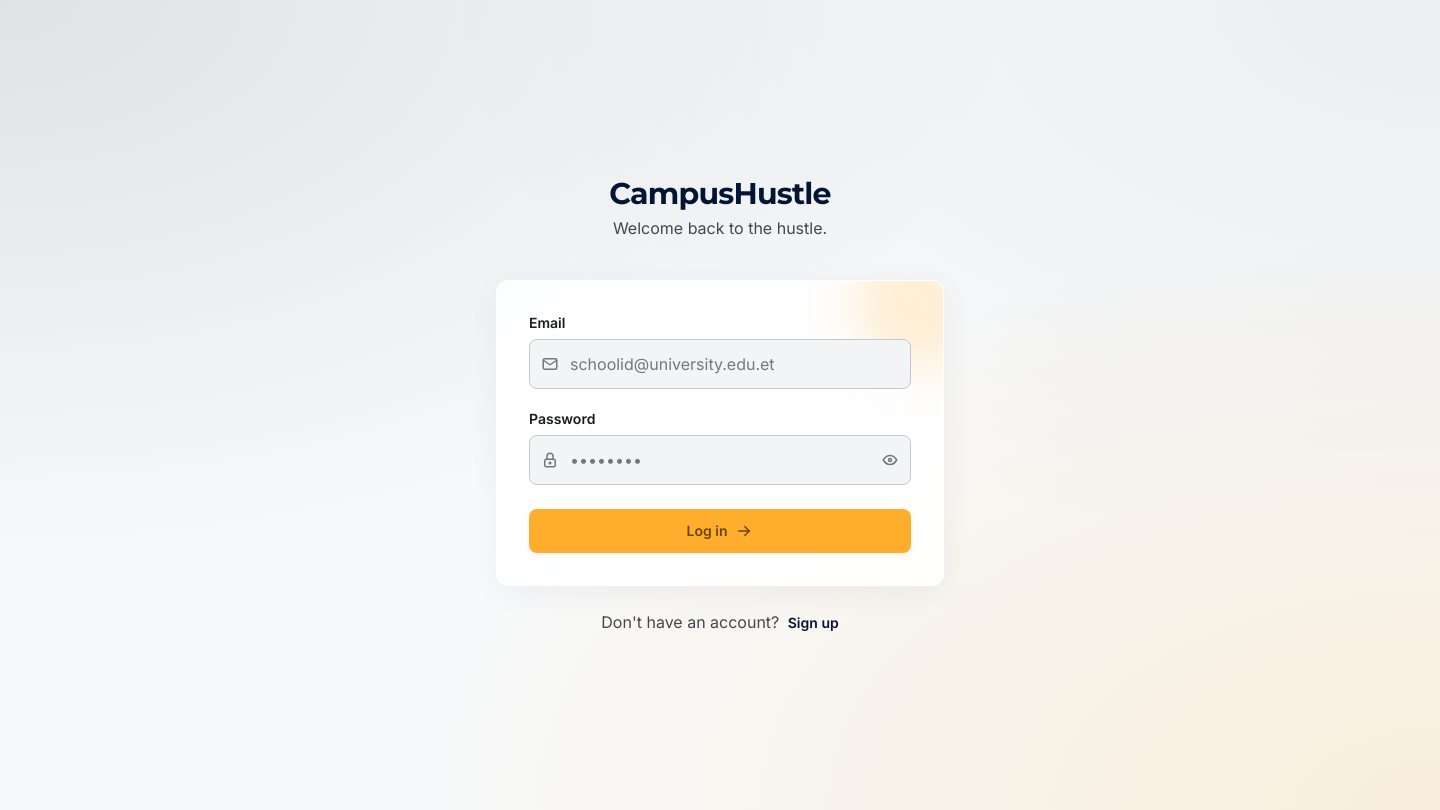
Scenario: LoginForm › shows an error toast when login fails
The image size is (1440, 810).
Type "fail@campus.edu.et" into the field labelled "Email" at coordinates (720, 364), box [529,339,911,389]
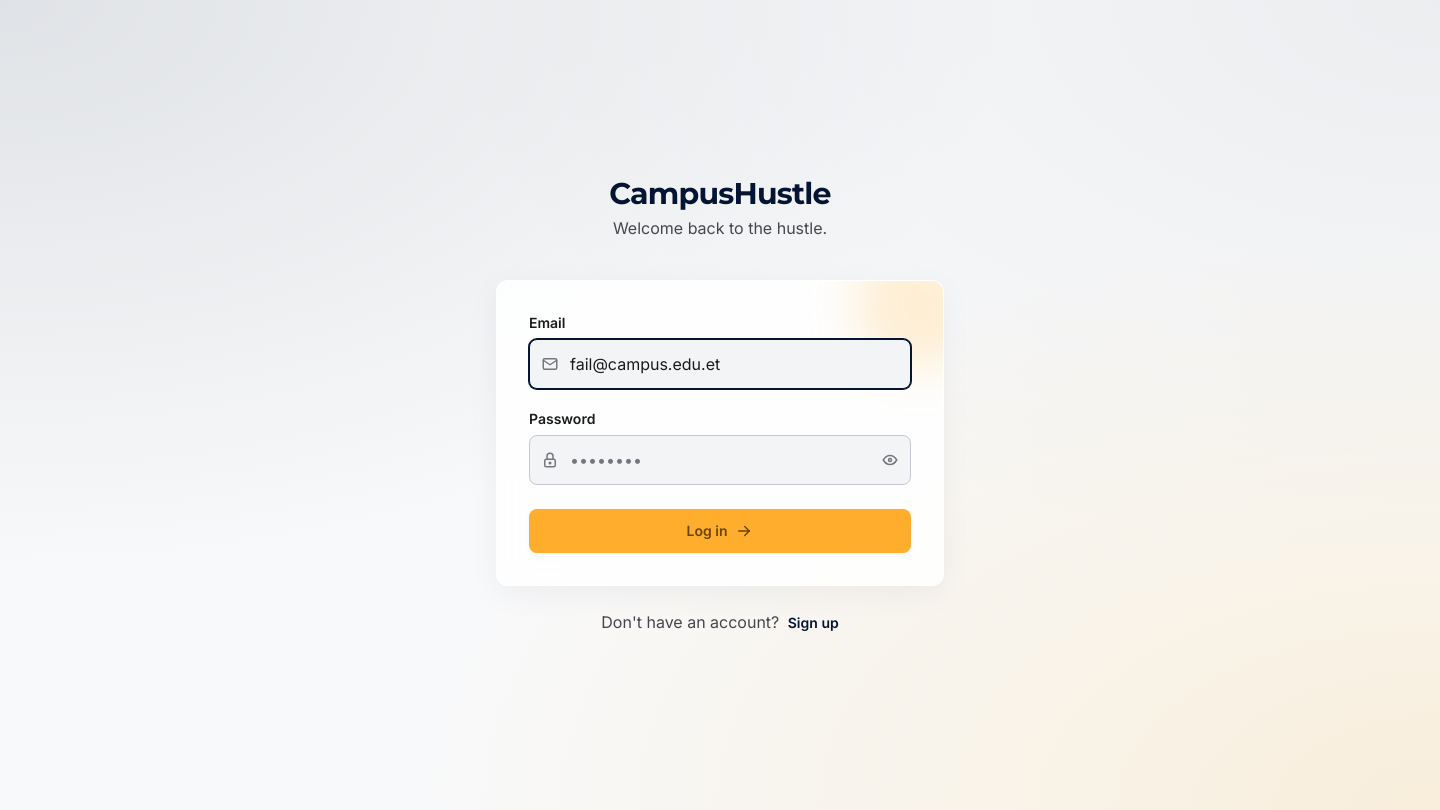
Type "password123" into the password field labelled "Password" at coordinates (720, 460), box [529,435,911,485]
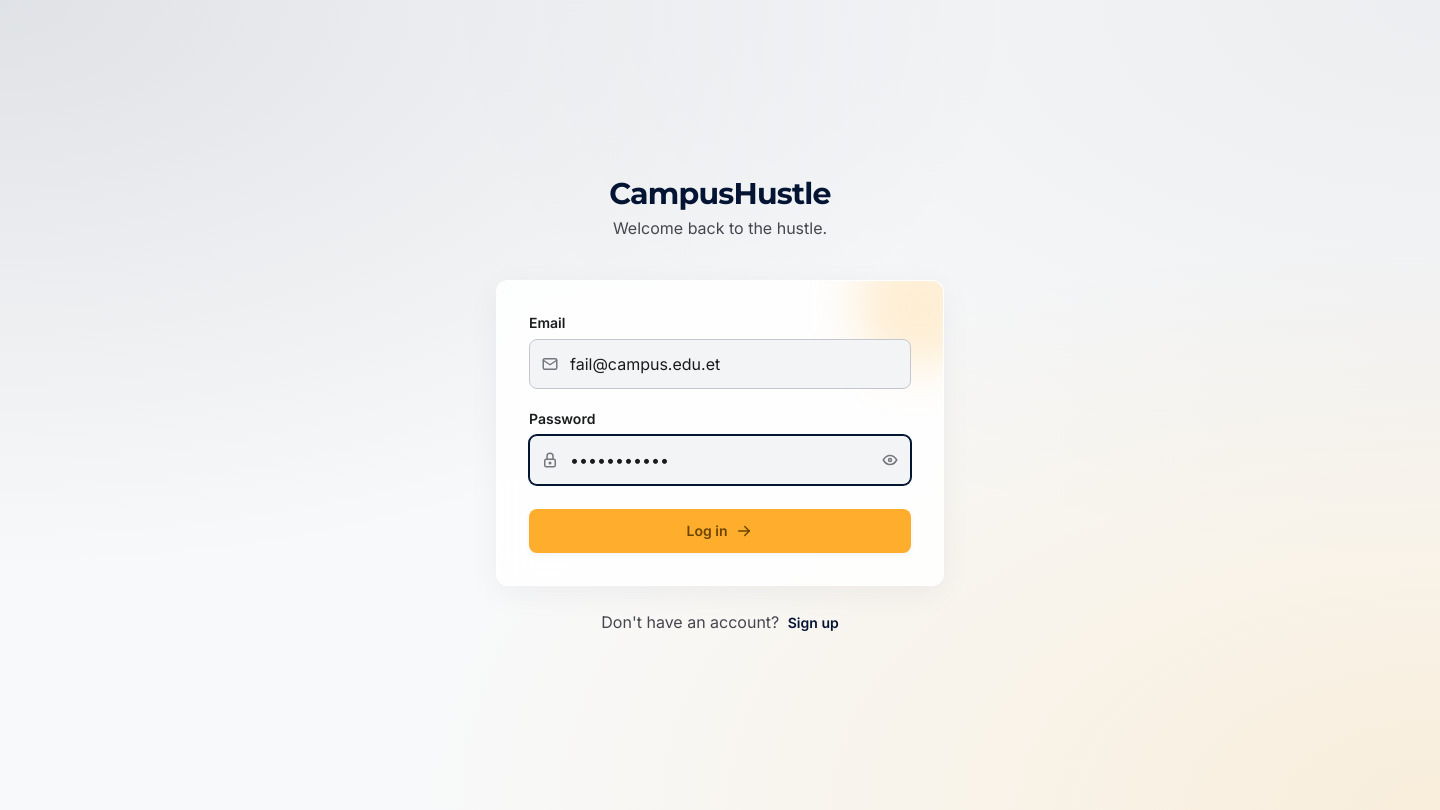
Click the button "Log in" at coordinates (720, 531), box [529,509,911,553]
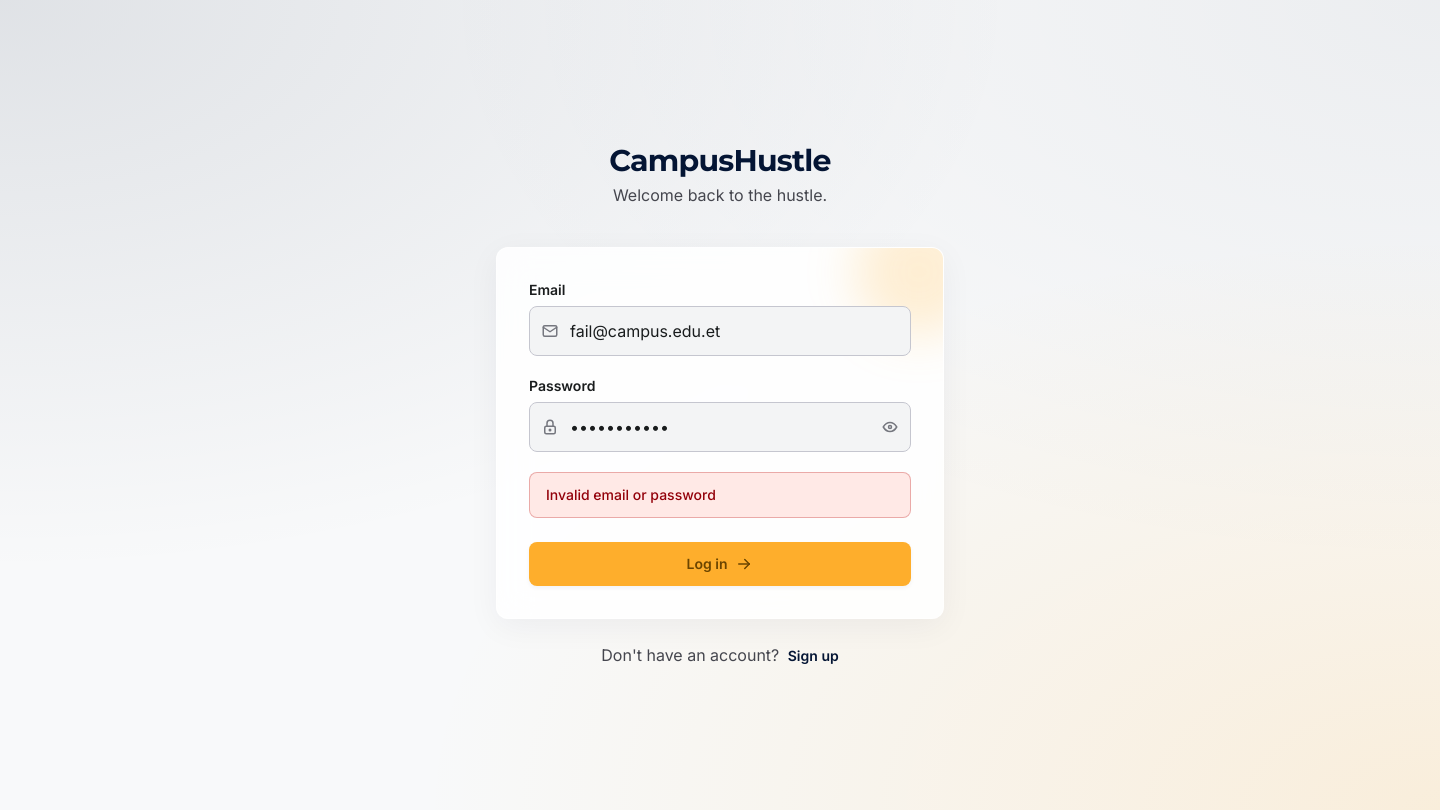
Result: the message with test id "toast-error" reads "Invalid email or password" at [546,486,716,503]
